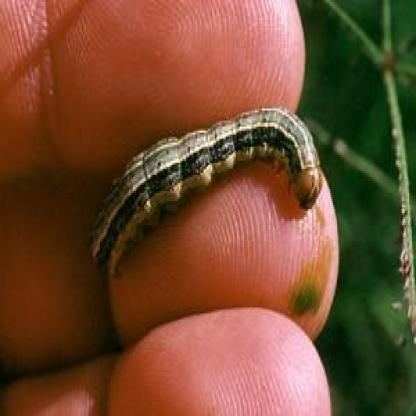armyworm: (80, 102, 322, 274)
